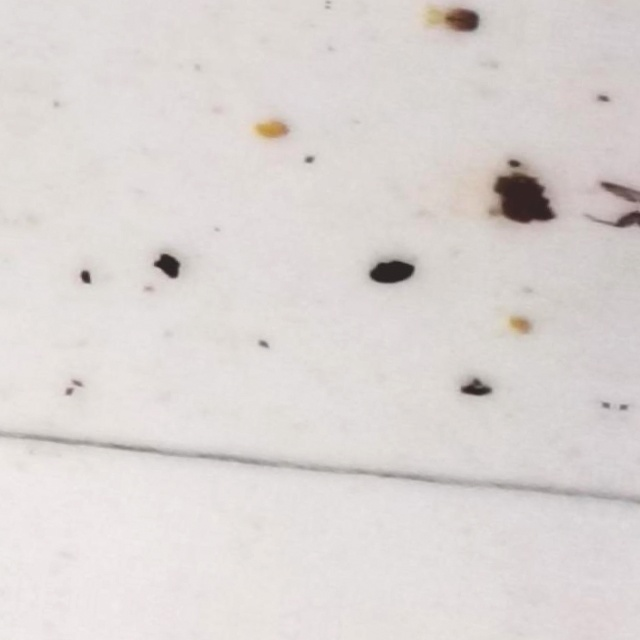varroa: (363, 255, 418, 290)
